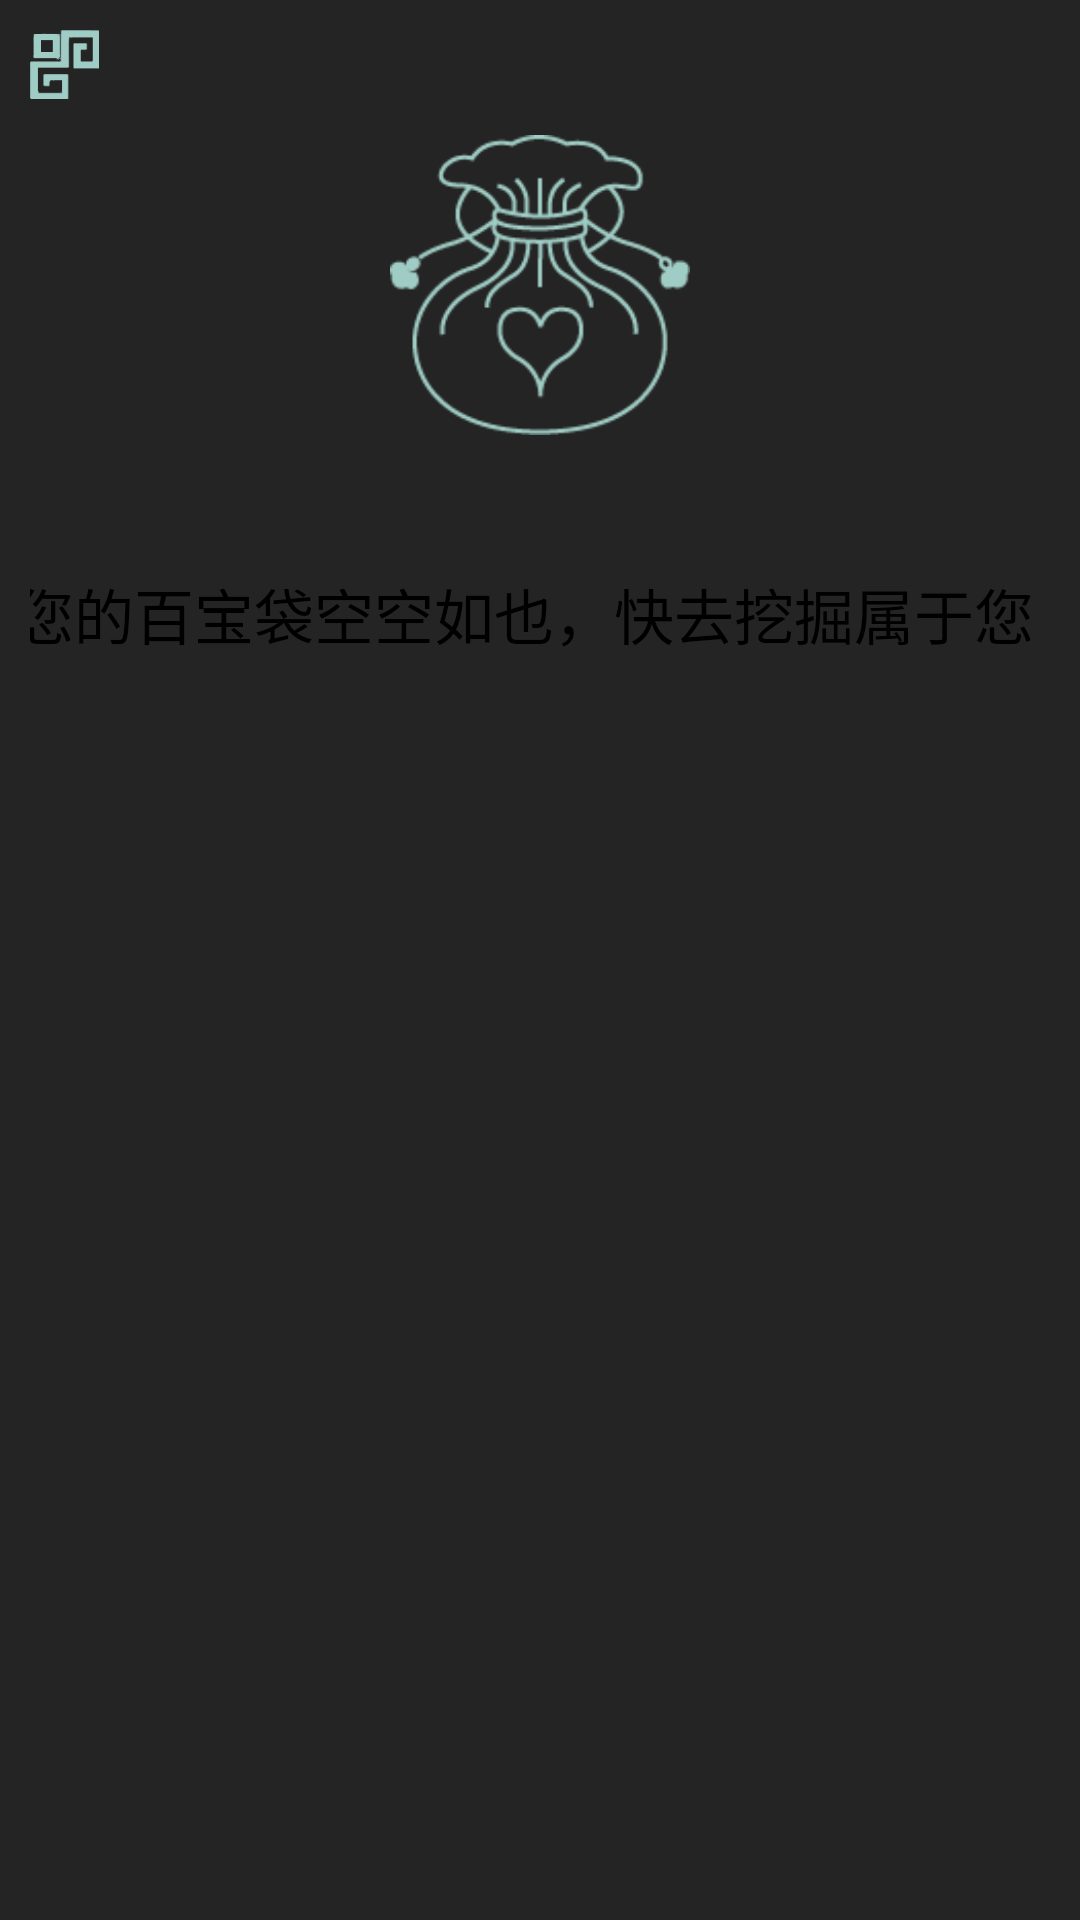

Screen size 1080w x 1920h. Icon name, then its center in pixels as (x,y):
pic gifts: (540,285)
pic menu: (64,64)
